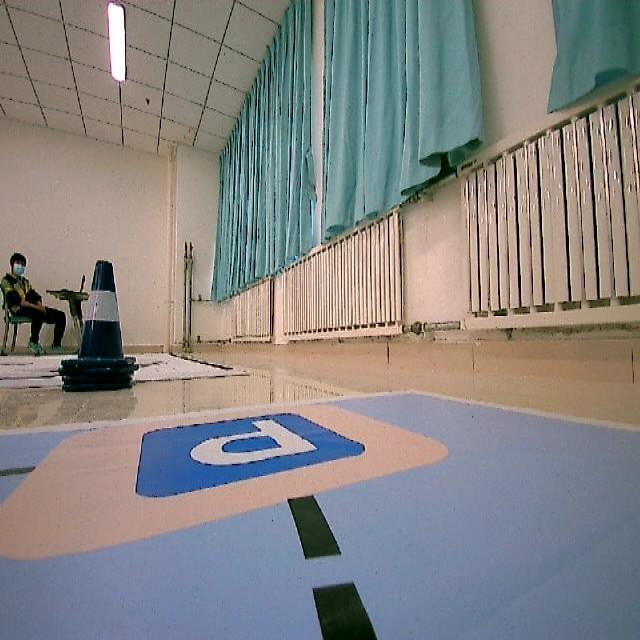obstacle: (61, 256, 131, 402)
